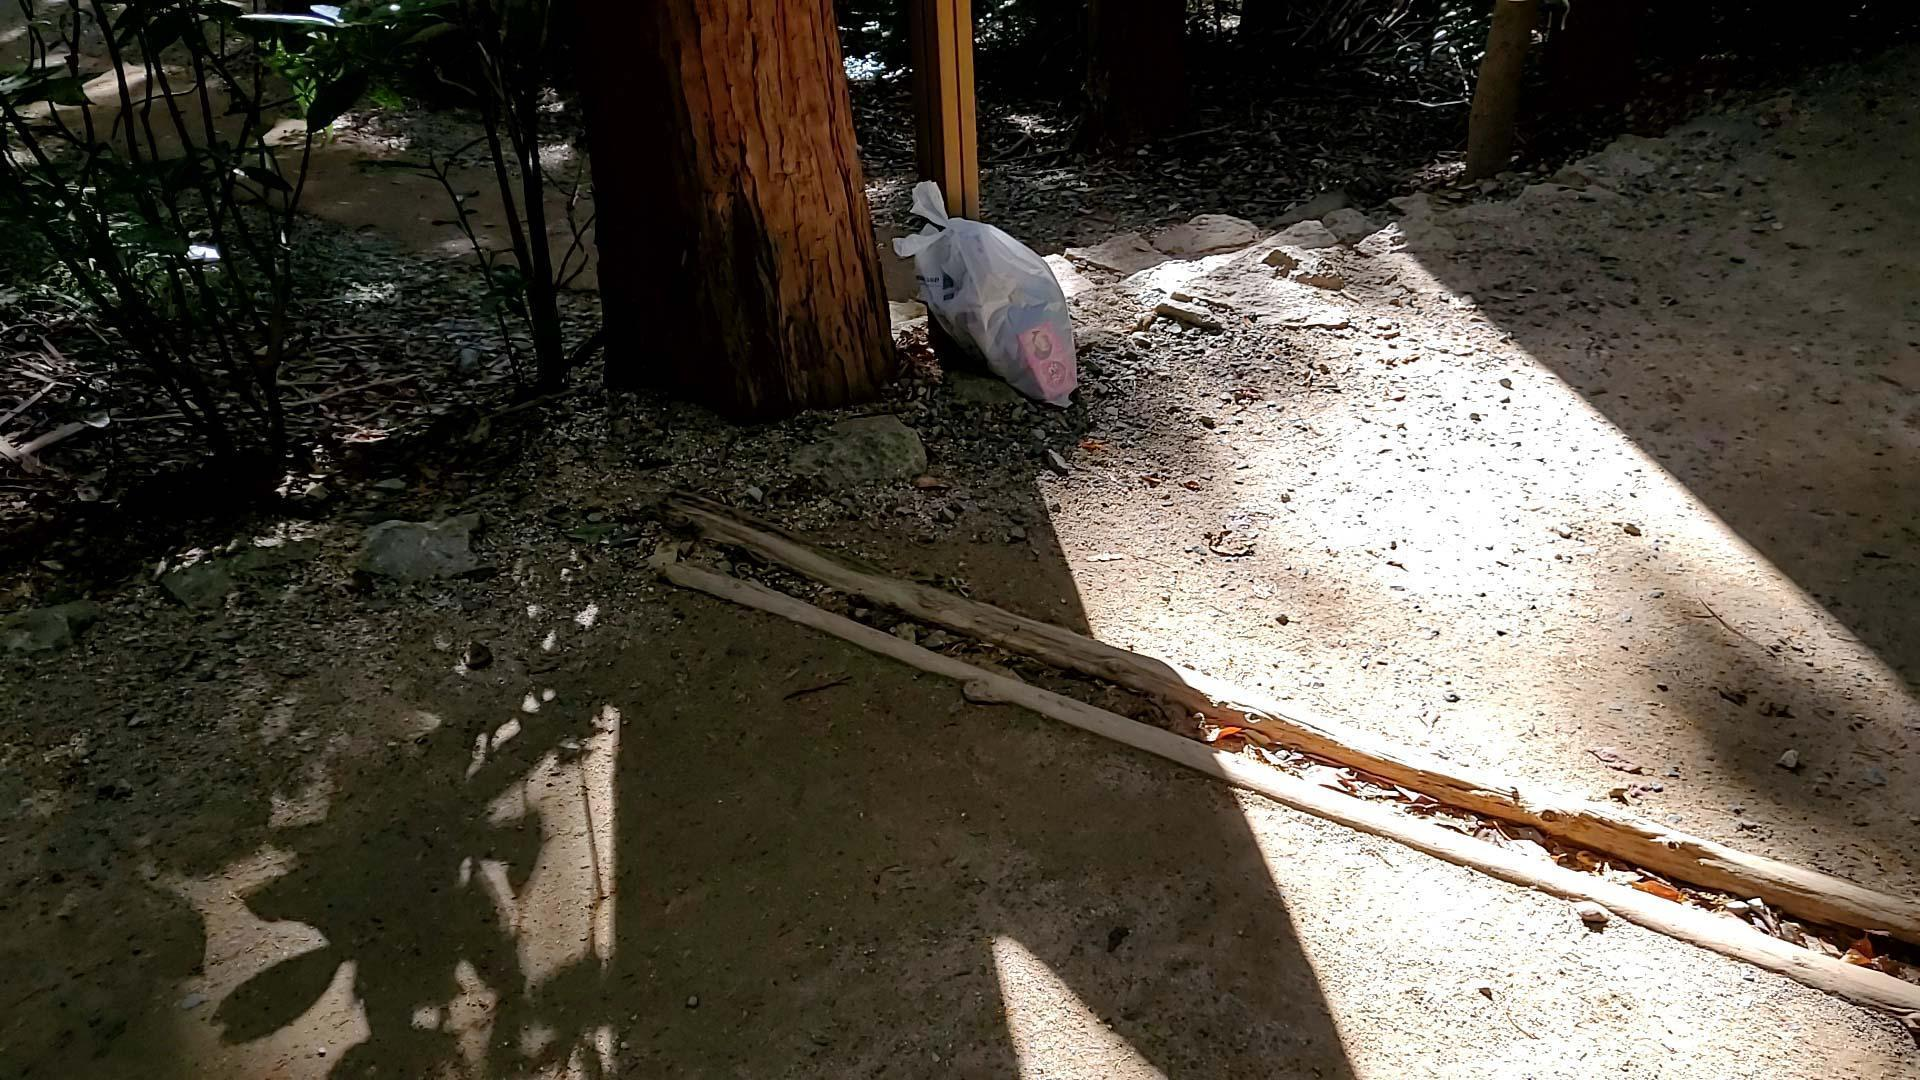white_bag: (881, 167, 1105, 419)
